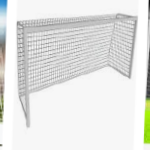goals: (15, 13, 138, 131)
